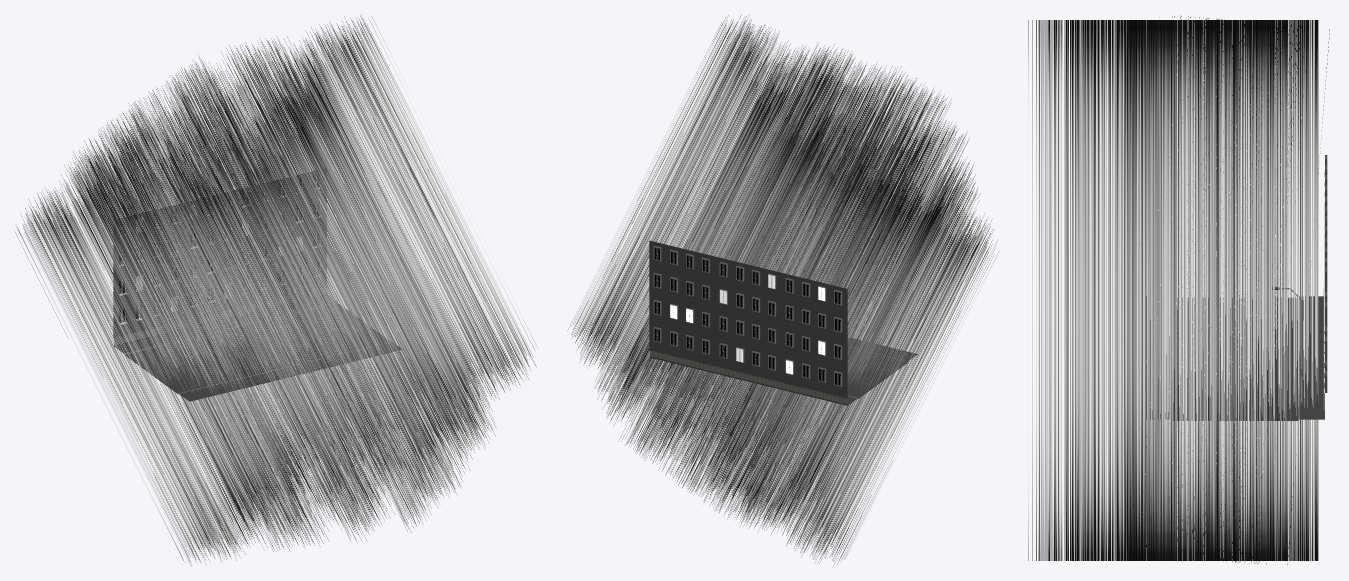
The model's file is rain.glb.
The picture shows the model from 3 angles, left to right: view 1: azimuth 30°, elevation 25°; view 2: azimuth 150°, elevation 25°; view 3: azimuth 270°, elevation 25°; orthographic projection. The views are drawn at different scales.
Parts seen in each view (by area): view 1: Plane.006, Cube.002, Cube, Cube.001, Plane.002, Plane.003, Plane.005, Plane.004, Plane, Plane.001; view 2: Plane.006, Cube, Cube.001, Cube.002, Plane.002, Plane.005; view 3: Plane.006, Plane.001, Plane, Plane.004, Plane.005, Plane.003, Plane.002, Cube.001.
Boxes of the visible parts, bbox=[...] form: Plane.006: bbox=[15, 16, 536, 563]; Cube.002: bbox=[113, 203, 184, 346]; Cube: bbox=[184, 187, 256, 328]; Cube.001: bbox=[255, 169, 326, 311]; Plane.002: bbox=[152, 358, 260, 401]; Plane.003: bbox=[223, 340, 330, 384]; Plane.005: bbox=[114, 330, 221, 374]; Plane.004: bbox=[295, 323, 402, 366]; Plane: bbox=[187, 312, 292, 357]; Plane.001: bbox=[260, 295, 363, 338]; Plane.006: bbox=[568, 15, 995, 564]; Cube: bbox=[715, 256, 781, 389]; Cube.001: bbox=[649, 240, 715, 373]; Cube.002: bbox=[781, 273, 847, 405]; Plane.002: bbox=[847, 338, 917, 380]; Plane.005: bbox=[782, 373, 881, 405]; Plane.006: bbox=[1028, 16, 1329, 564]; Plane.001: bbox=[1235, 378, 1324, 420]; Plane: bbox=[1235, 337, 1323, 379]; Plane.004: bbox=[1145, 378, 1234, 420]; Plane.005: bbox=[1235, 296, 1323, 338]; Plane.003: bbox=[1146, 338, 1234, 379]; Plane.002: bbox=[1146, 296, 1232, 338]; Cube.001: bbox=[1323, 237, 1327, 410].
Size of the model in its own units: 14.09 by 14.58 by 6.41.
14 materials, 8 textured.
